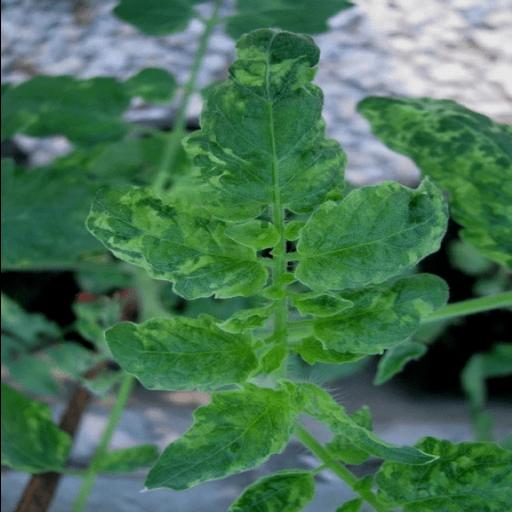Mosaic Virus: (174, 16, 350, 226), (350, 94, 512, 274), (83, 190, 273, 302), (292, 174, 450, 296), (138, 382, 300, 494), (307, 272, 459, 358), (98, 314, 260, 394), (372, 432, 512, 512)
